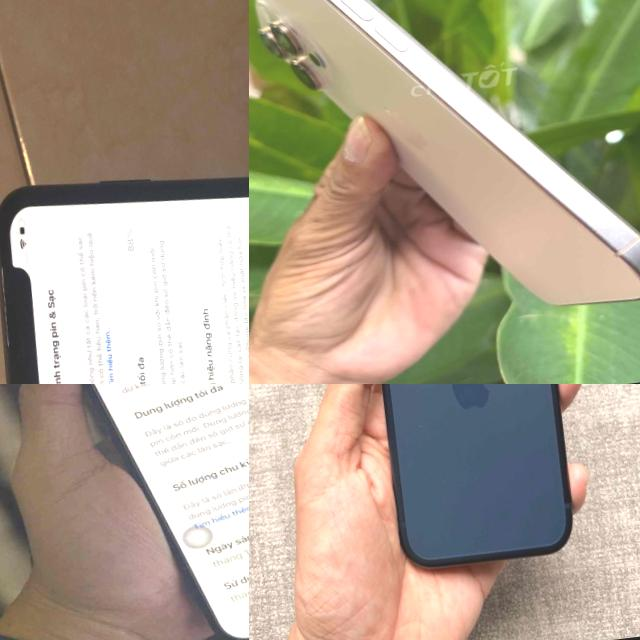scratch: (0, 239, 39, 384)
